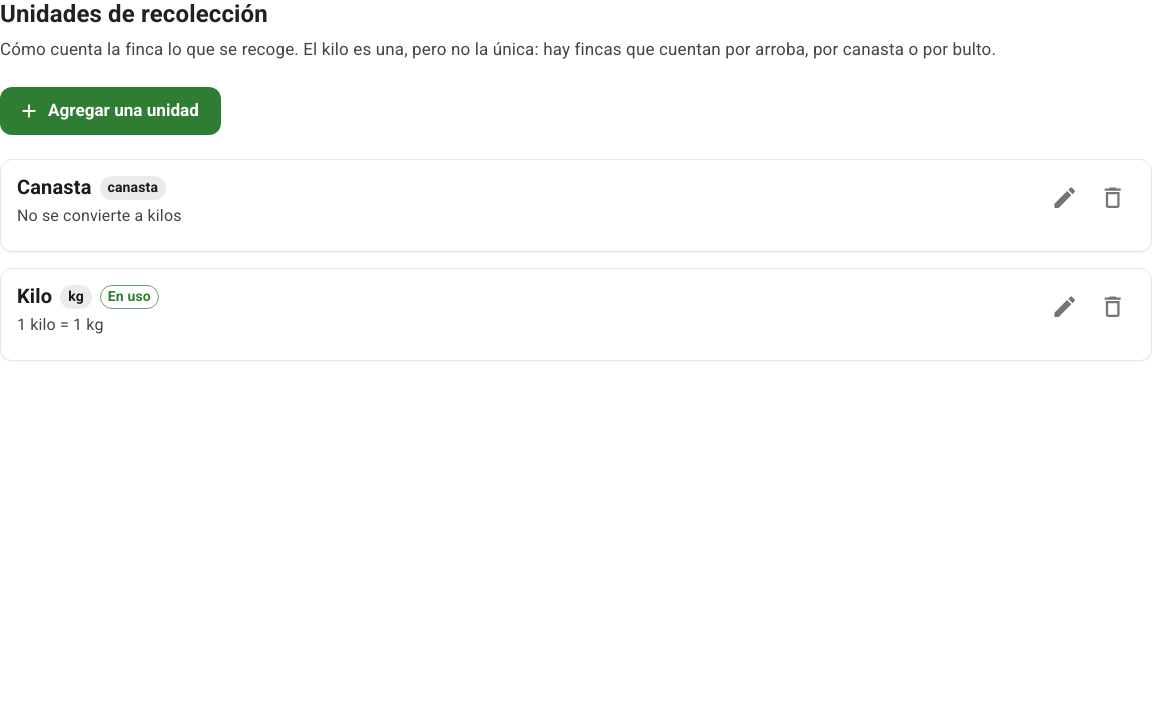
Test: removing a unit › deletes one nobody used, and the notice can be closed
Click the button named "Quitar Canasta": point(1113, 198) [1091, 176, 1135, 220]
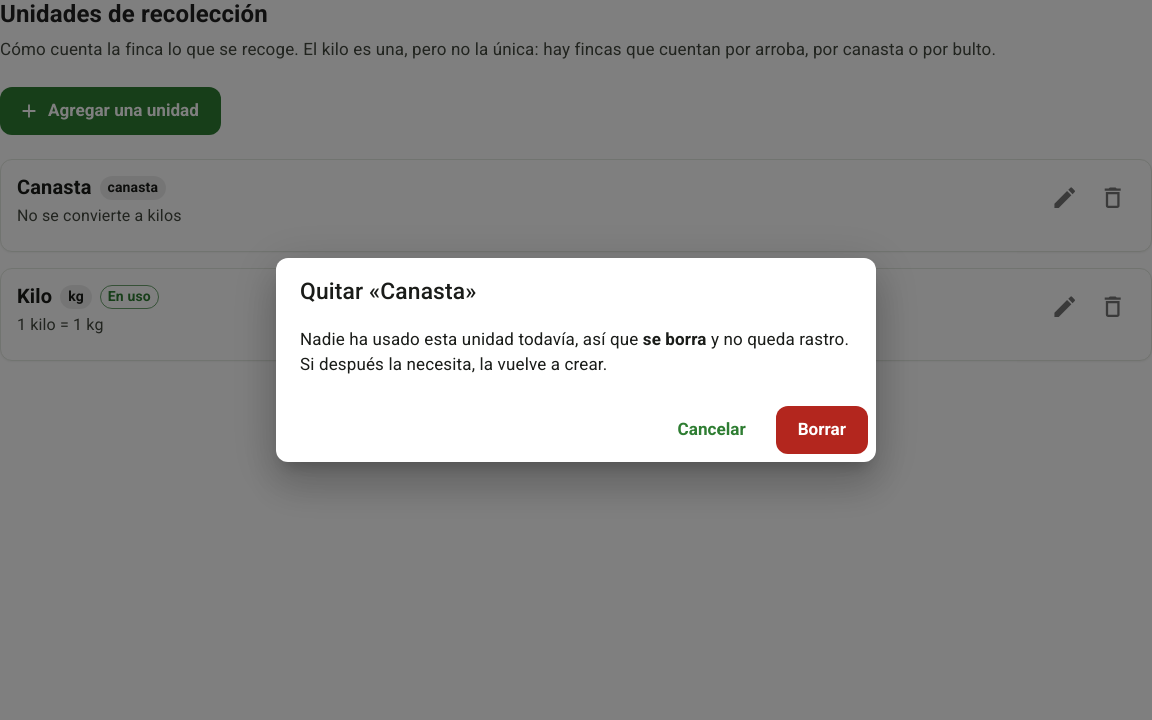
Click the button "Borrar": point(822, 430) [776, 406, 868, 454]
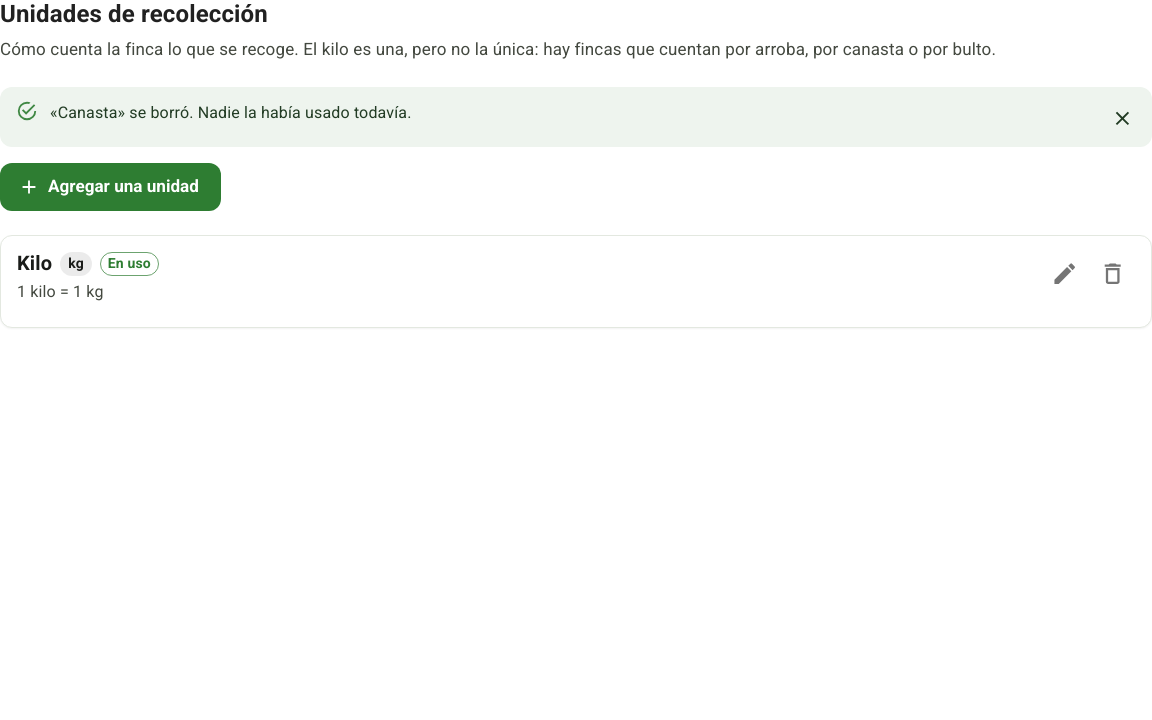
Expected: the dialog is gone
Click the button named "Cerrar": point(1122, 119) [1100, 97, 1144, 141]
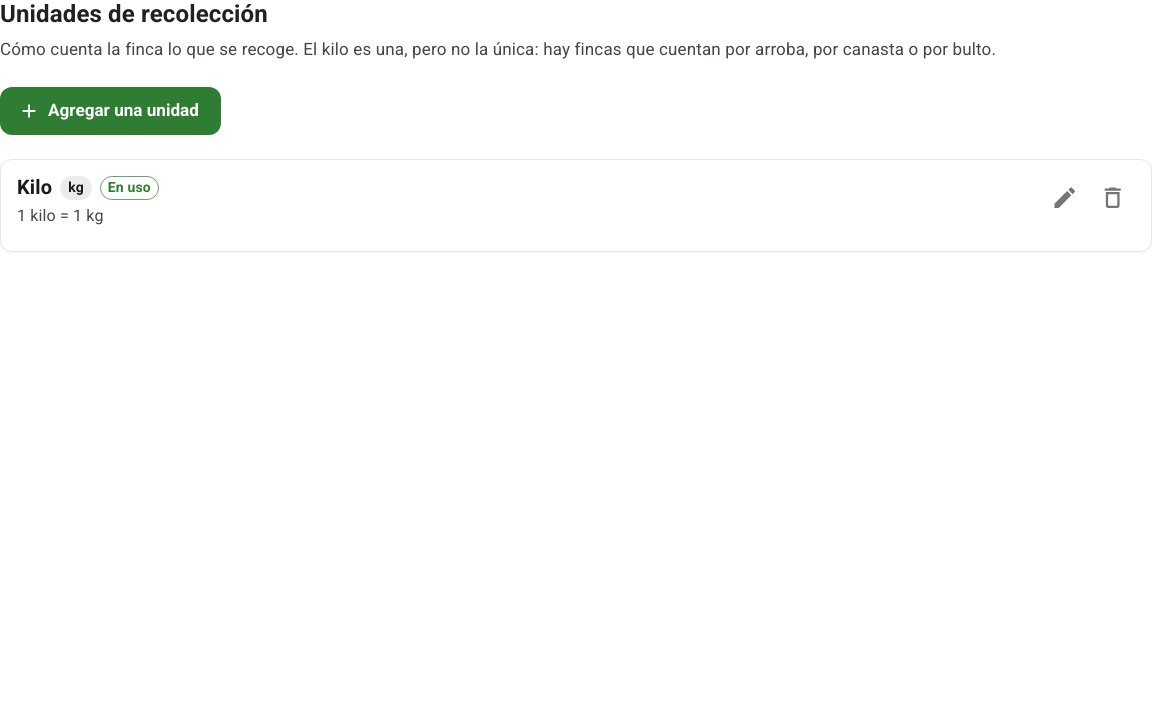
Expected: the text "se borró" is gone
